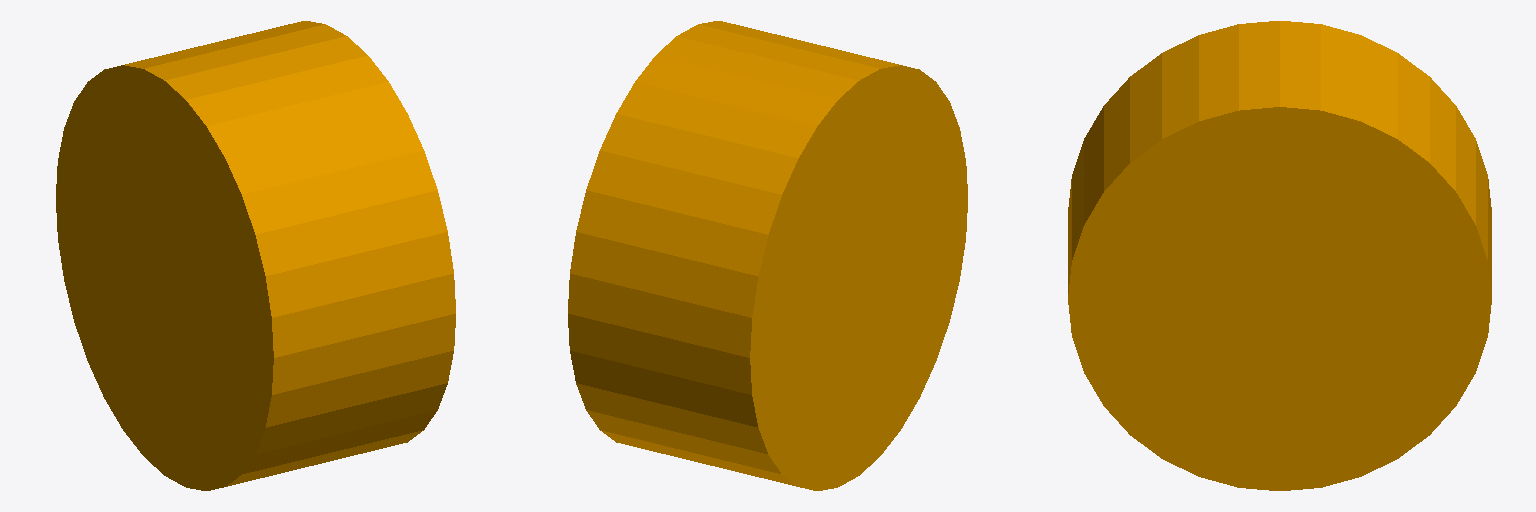
The robot description file, URDF, robot "Xshape_capsule_outer":
<?xml version="1.0"?>
<robot name="Xshape_capsule_outer">
 <link name="body">
  <inertial>
    <mass value="1"/>
    <inertia ixx="0.688958333333" ixy="0" ixz="0" iyy="0.688958333333" iyz="0" izz="0.525625"/>
  </inertial>
  <visual>
    <origin rpy="0 1.57 0" xyz="0 0 0"/>
    <geometry>
      <cylinder length="1.4" radius="1.45"/>
    </geometry>
  </visual>
  <collision>
    <origin rpy="0 1.57 0" xyz="0 0 0"/>
    <geometry>
      <cylinder length="1.4" radius="1.45"/>
    </geometry>
  </collision>
 </link>

  <klampt package_root="../../.." default_acc_max="4" >
  </klampt>
</robot>

--- Facts derived from the render (not from the file) ---
Views: 3 orthographic renders of the robot side by side, from view 1: azimuth 30°, elevation 25°; view 2: azimuth 150°, elevation 25°; view 3: azimuth 270°, elevation 25°.
Robot: Xshape_capsule_outer — 1 links, 0 joints (none); root link body; default pose: all joints at 0.
Links seen in each view (by area): view 1: body; view 2: body; view 3: body.
Boxes of the visible links, left/top/right/bottom form: body: left=56, top=21, right=455, bottom=490; body: left=568, top=21, right=967, bottom=490; body: left=1068, top=21, right=1491, bottom=490.
Size in the robot's own frame: 1.4 by 2.9 by 2.9 metres.
Geometry: primitives only (box / cylinder / sphere), no mesh files.